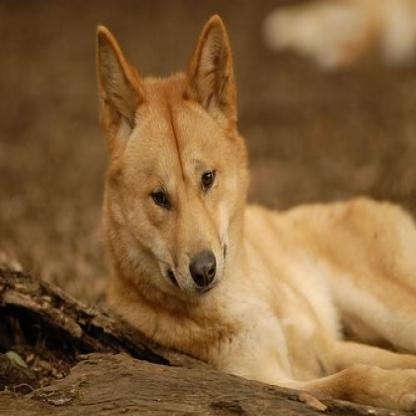dingo: (92, 11, 414, 411)
